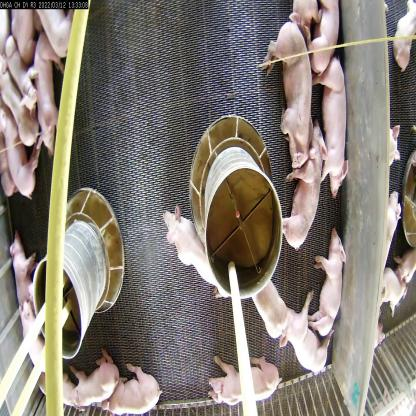Pig: (162, 194, 226, 305), (281, 128, 327, 254), (263, 24, 309, 146), (211, 344, 283, 415), (320, 53, 354, 188), (282, 287, 328, 383), (19, 302, 66, 392), (0, 11, 44, 104), (307, 226, 343, 336), (59, 352, 121, 414), (99, 359, 162, 415), (28, 41, 59, 148), (12, 232, 45, 321), (246, 261, 283, 332), (309, 0, 342, 72), (0, 112, 34, 181)
